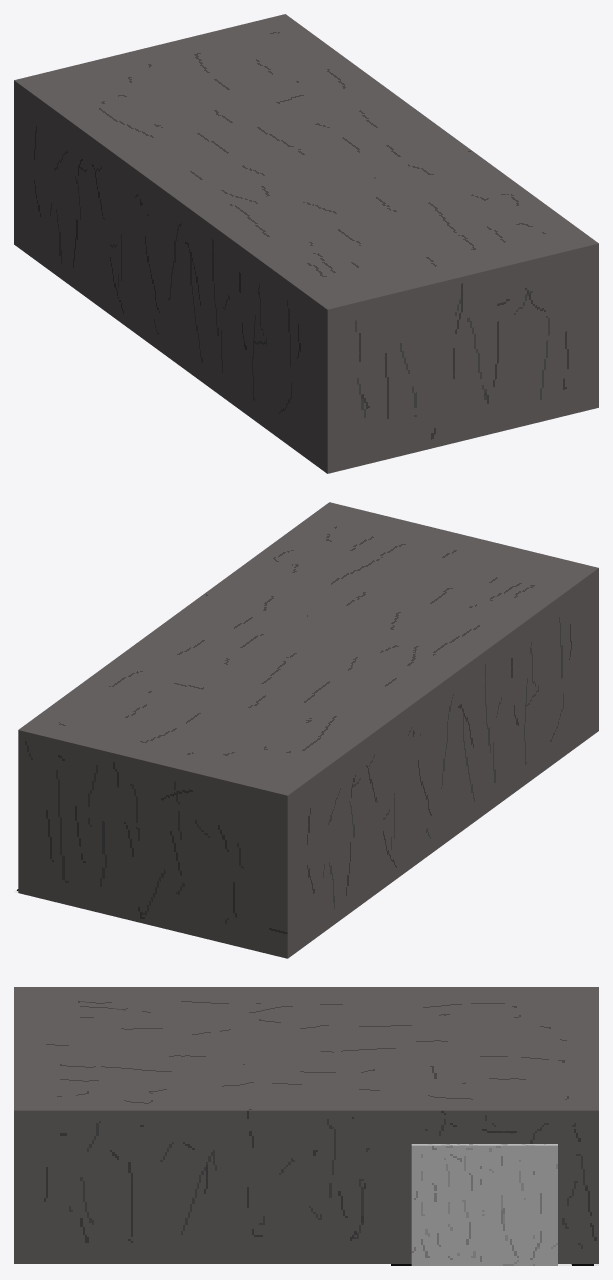
The model's file is kitchen.gltf.
3 views of the same model, one above another, from view 1: azimuth 30°, elevation 25°; view 2: azimuth 150°, elevation 25°; view 3: azimuth 270°, elevation 25° (orthographic). The views are drawn at different scales.
Parts seen in each view (by area): view 1: kitchenwall, kitchenceiling; view 2: kitchenwall, kitchenceiling; view 3: kitchenwall, kitchenceiling, kitchendoor, kitchendoor2.
Part boxes in pixels (x1,y1,x2,y2): kitchenwall: (14, 80, 598, 473); kitchenceiling: (14, 14, 598, 309); kitchenwall: (18, 568, 598, 958); kitchenceiling: (18, 502, 598, 795); kitchenwall: (14, 1110, 598, 1263); kitchenceiling: (14, 987, 598, 1110); kitchendoor: (411, 1144, 484, 1265); kitchendoor2: (484, 1144, 557, 1265).
Size of the model in its own units: 8.12 by 4.62 by 16.
Materials: 4 (4 with a texture image).
